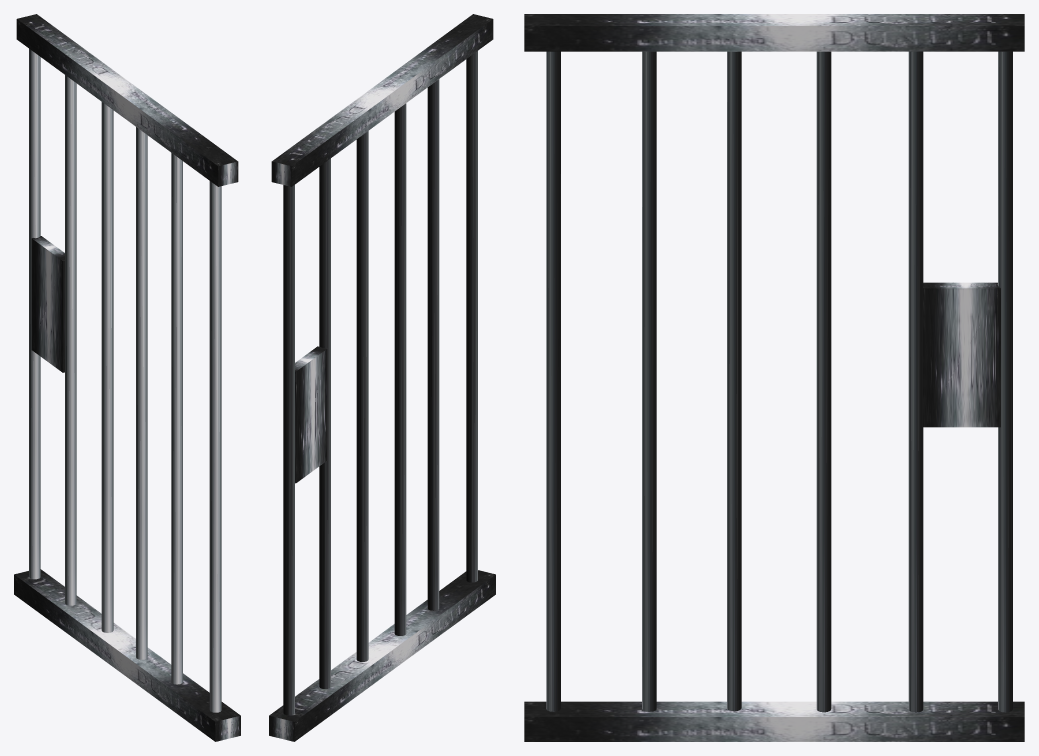
Rendered from bars.glb.
The picture shows the model from 3 angles, left to right: view 1: azimuth 30°, elevation 25°; view 2: azimuth 150°, elevation 25°; view 3: azimuth 270°, elevation 25°; orthographic projection. The views are drawn at different scales.
Visible parts, largest first — view 1: bars.ms3d.mo; view 2: bars.ms3d.mo; view 3: bars.ms3d.mo.
Part boxes in pixels (left/top/right/bottom): bars.ms3d.mo: left=14, top=14, right=240, bottom=741; bars.ms3d.mo: left=269, top=14, right=495, bottom=741; bars.ms3d.mo: left=524, top=14, right=1024, bottom=741.
Size of the model in its own units: 1.55 by 33.44 by 21.23.
1 material, 1 textured.
